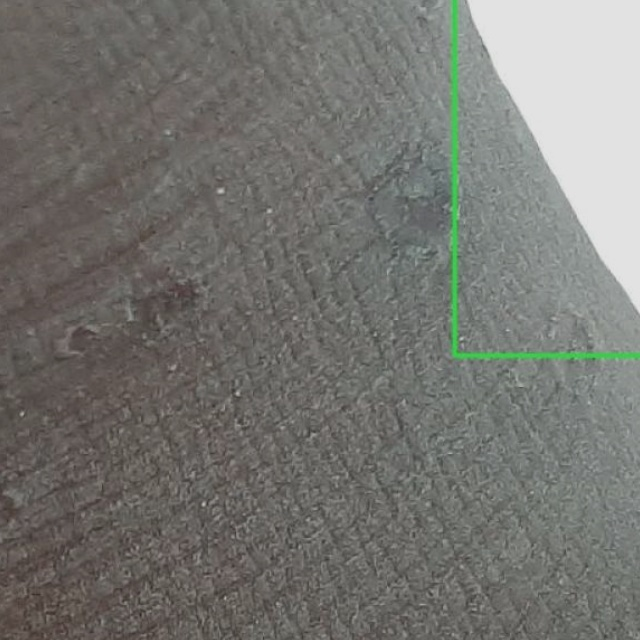Contact Dermatitis: (454, 0, 639, 356)
